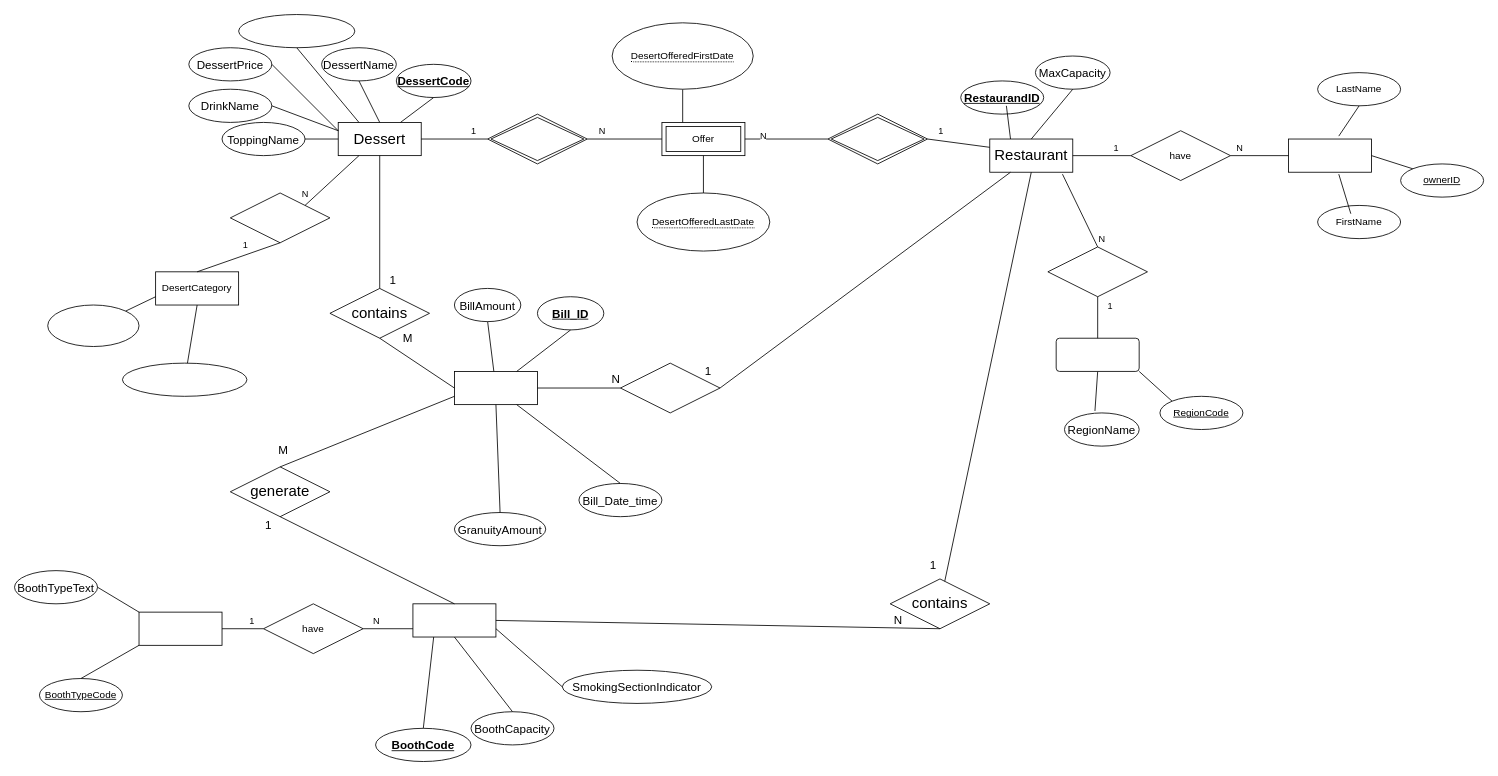
The diagram is 1498 pixels wide and 776 high, and some of its shapes have lost their labels. Here are the shapes that lost their labels. From the top down, the box of each, then its label:
(238, 14, 355, 48): DessertDescription
(487, 113, 587, 164): is
(827, 113, 928, 164): does
(1288, 138, 1372, 172): Owner
(229, 192, 330, 243): has
(1047, 246, 1147, 297): isLocated
(47, 304, 139, 347): DesertCategoryId
(1055, 337, 1139, 371): Region
(122, 362, 247, 396): DessertCategoryName
(454, 371, 537, 405): Bill
(620, 362, 720, 413): process
(138, 611, 222, 645): BoothType
(412, 603, 496, 637): Booth
